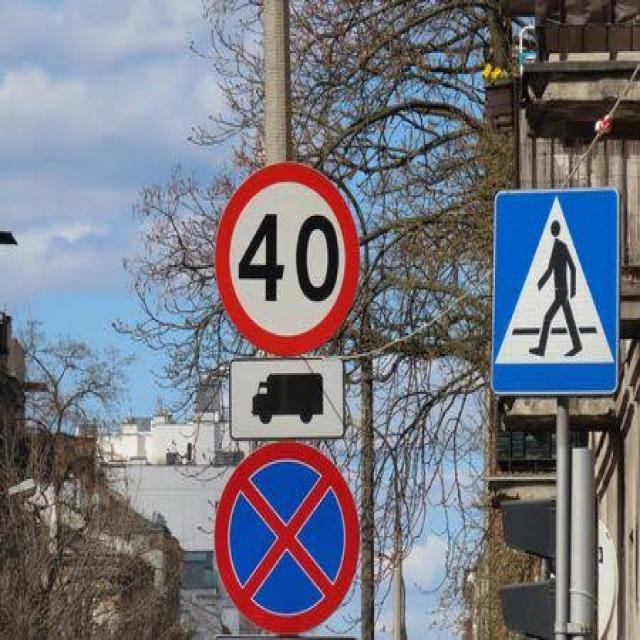no stopping: (212, 437, 360, 636)
speed limit 40: (215, 160, 361, 356)
